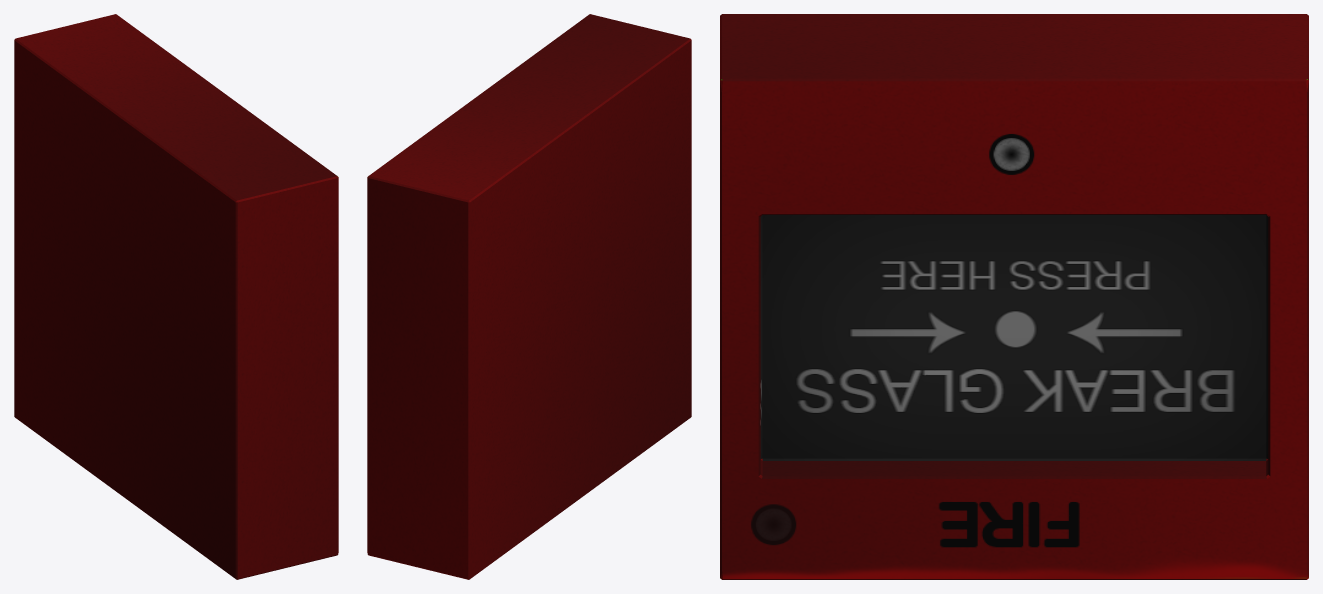
Rendered from fireAlarm.FBX.
3 renders of one model, left to right at view 1: azimuth 30°, elevation 25°; view 2: azimuth 150°, elevation 25°; view 3: azimuth 270°, elevation 25°, orthographic. The views are drawn at different scales.
Visible parts, largest first — view 1: Box006; view 2: Box006; view 3: Box006.
Boxes of the visible parts, x1,y1,x2,y2 form: Box006: (14, 14, 338, 579); Box006: (367, 14, 691, 579); Box006: (720, 14, 1308, 579).
Size of the model in its own units: 0.0793 by 0.2786 by 0.2967.
